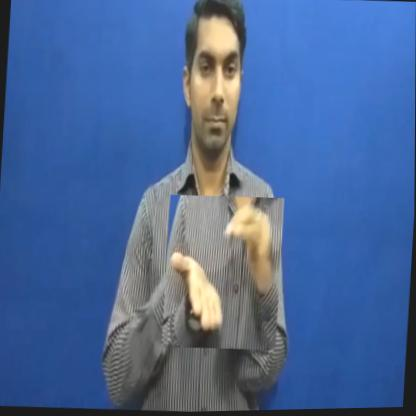ExcuseMe: (161, 193, 284, 353)
